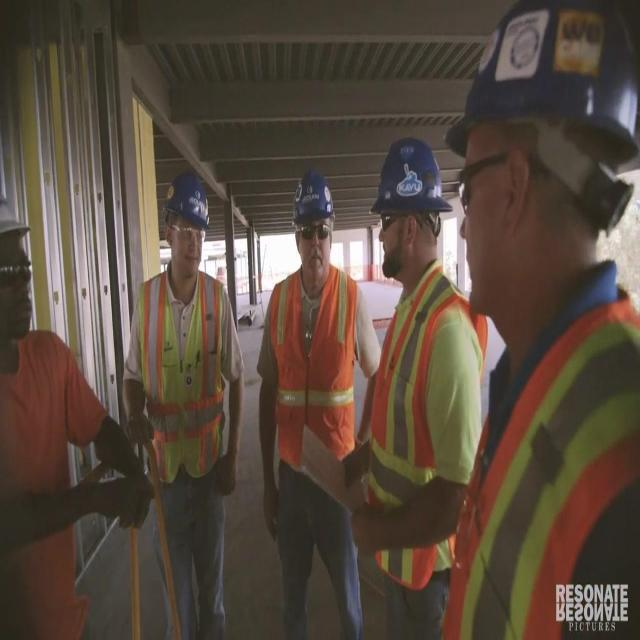Vest: (438, 286, 638, 636), (364, 260, 488, 590), (137, 268, 227, 482), (267, 263, 356, 473)
